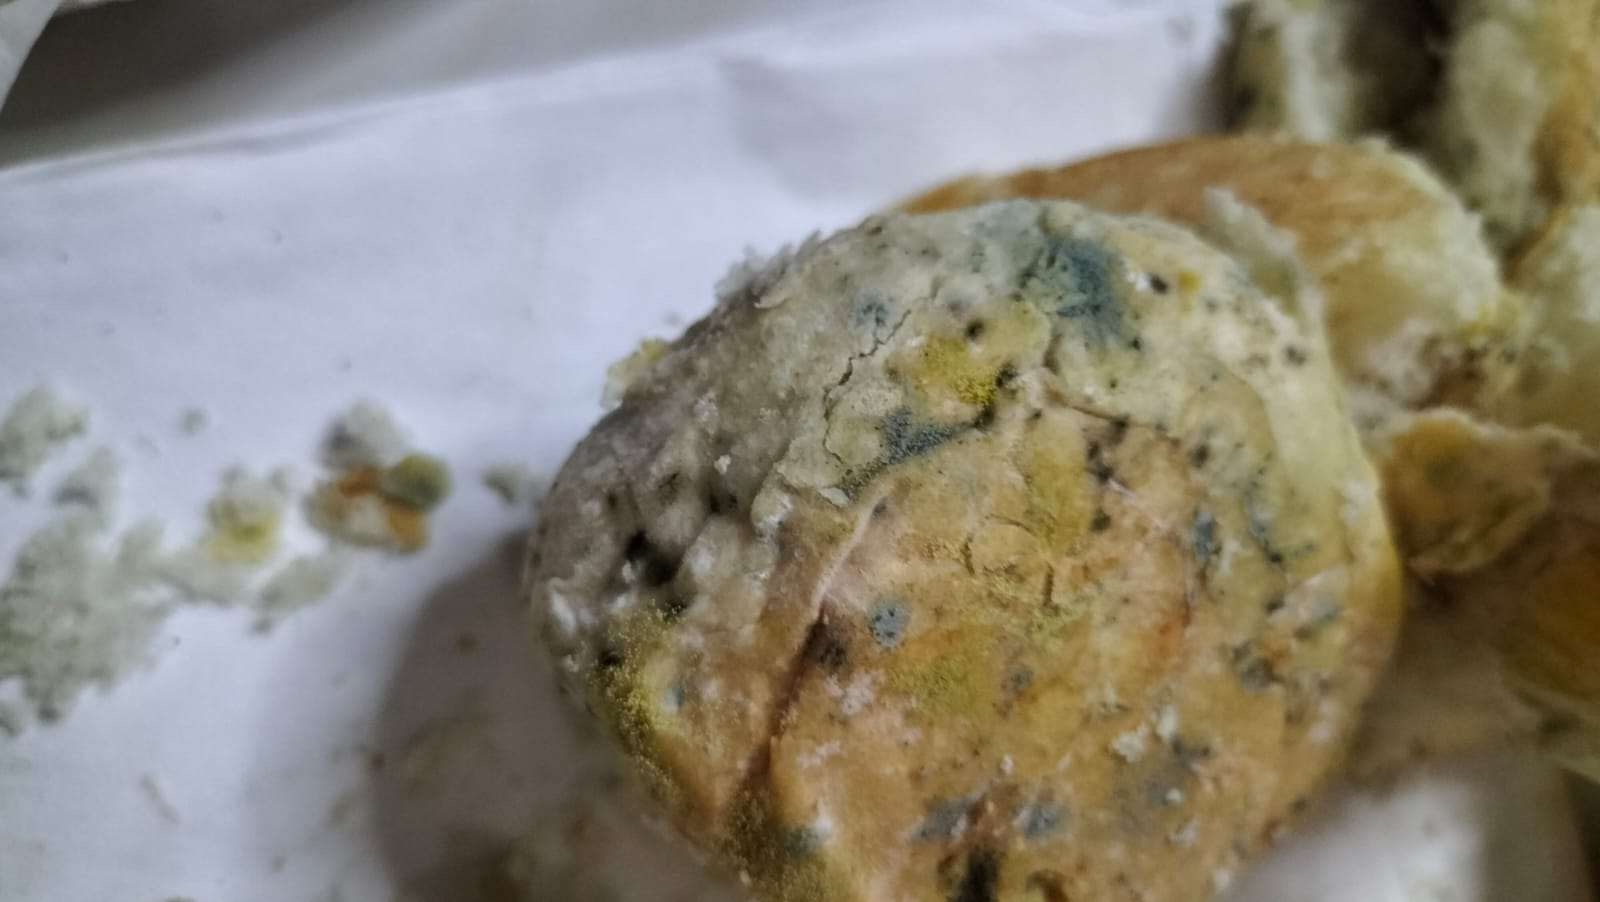mold_bread: (1010, 203, 1173, 350), (592, 592, 700, 797), (834, 405, 959, 500), (1080, 411, 1136, 538), (738, 797, 832, 870), (1241, 450, 1289, 567), (905, 784, 976, 854), (800, 613, 852, 688), (1188, 508, 1223, 599), (1016, 790, 1070, 846), (863, 595, 913, 655), (847, 291, 897, 337), (955, 308, 987, 343), (1190, 436, 1218, 477)
